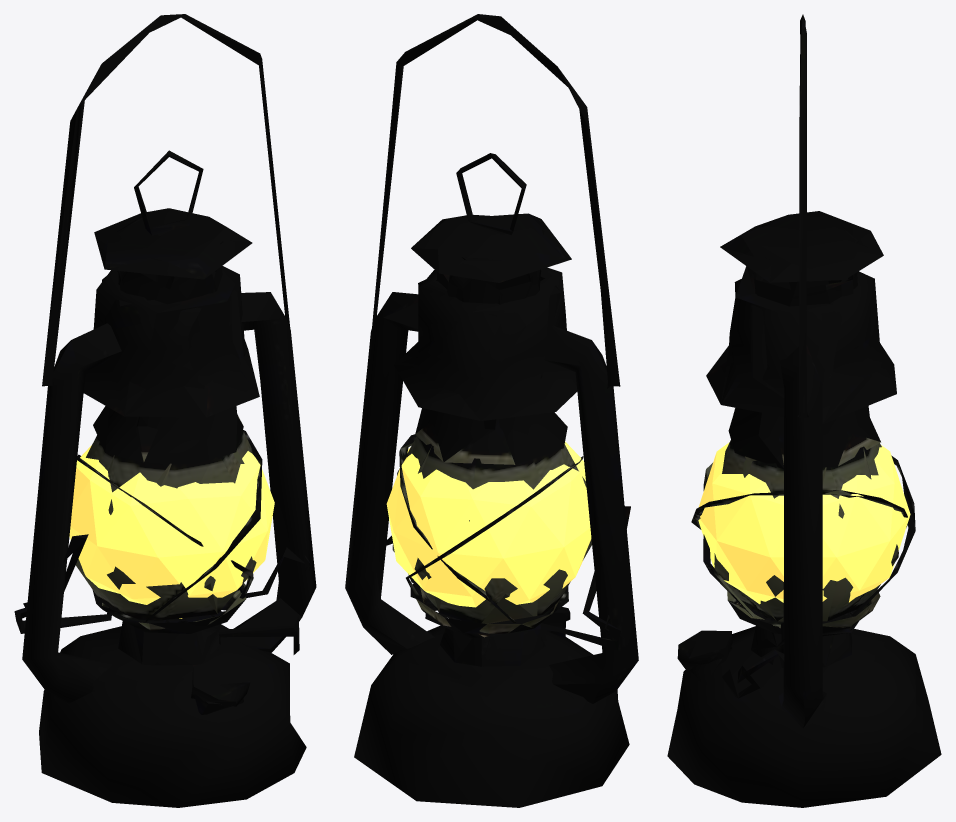
The model's file is ph_lantern.glb.
The picture shows the model from 3 angles, left to right: view 1: azimuth 30°, elevation 25°; view 2: azimuth 150°, elevation 25°; view 3: azimuth 270°, elevation 25°; orthographic projection.
Visible parts, largest first — view 1: lantern, lantern_glow; view 2: lantern, lantern_glow; view 3: lantern, lantern_glow.
Boxes of the visible parts, x1,y1,x2,y2 form: lantern: (14, 14, 316, 807); lantern_glow: (69, 445, 274, 618); lantern: (345, 14, 638, 807); lantern_glow: (386, 441, 591, 607); lantern: (667, 14, 941, 807); lantern_glow: (698, 442, 910, 604).
Bounding box in the file's own units: 0.1833 × 0.4398 × 0.149.
Materials: 2 (1 with a texture image).
